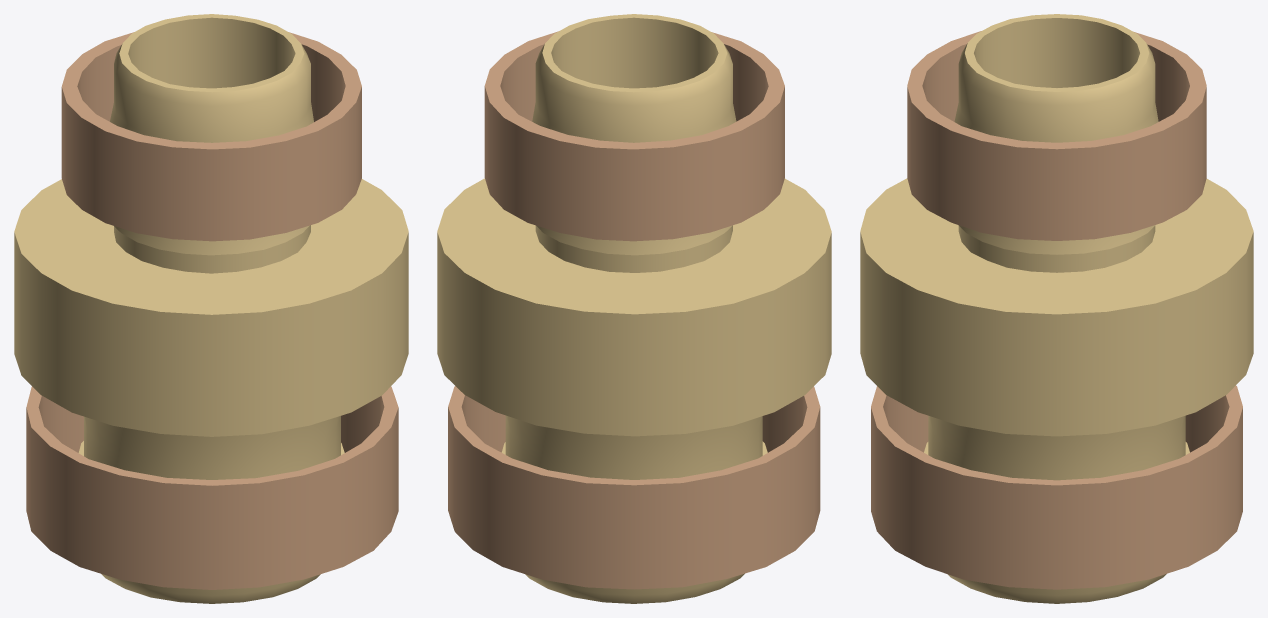
The model's file is slab_pipes_supply__water-city_filter_and_softener-yes_and_plumbing-attic_repipe+pex+pex_branch.glb.
The picture shows the model from 3 angles, left to right: view 1: azimuth 30°, elevation 25°; view 2: azimuth 150°, elevation 25°; view 3: azimuth 270°, elevation 25°; orthographic projection.
Visible parts, largest first — view 1: fit_bushing_pipe_supply_to_softener__pex; view 2: fit_bushing_pipe_supply_to_softener__pex; view 3: fit_bushing_pipe_supply_to_softener__pex.
Boxes of the visible parts, x1,y1,x2,y2 form: fit_bushing_pipe_supply_to_softener__pex: [14, 14, 408, 603]; fit_bushing_pipe_supply_to_softener__pex: [437, 14, 831, 603]; fit_bushing_pipe_supply_to_softener__pex: [860, 14, 1253, 603].
Size of the model in its own units: 0.0317 by 0.0444 by 0.0317.
